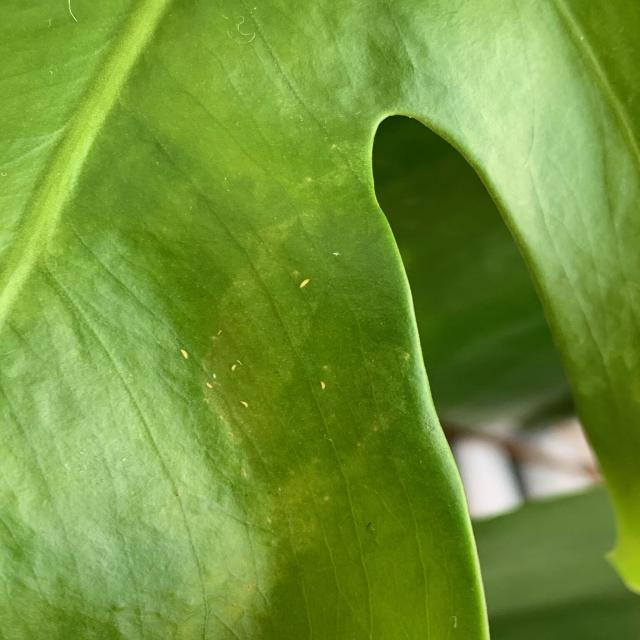Thrip-Group-: (172, 238, 363, 428)
Thrip-Larva-: (294, 275, 314, 292), (177, 347, 194, 362), (317, 378, 329, 394), (237, 399, 254, 409), (214, 326, 228, 338), (228, 362, 240, 372), (208, 370, 220, 379), (235, 358, 243, 366)
